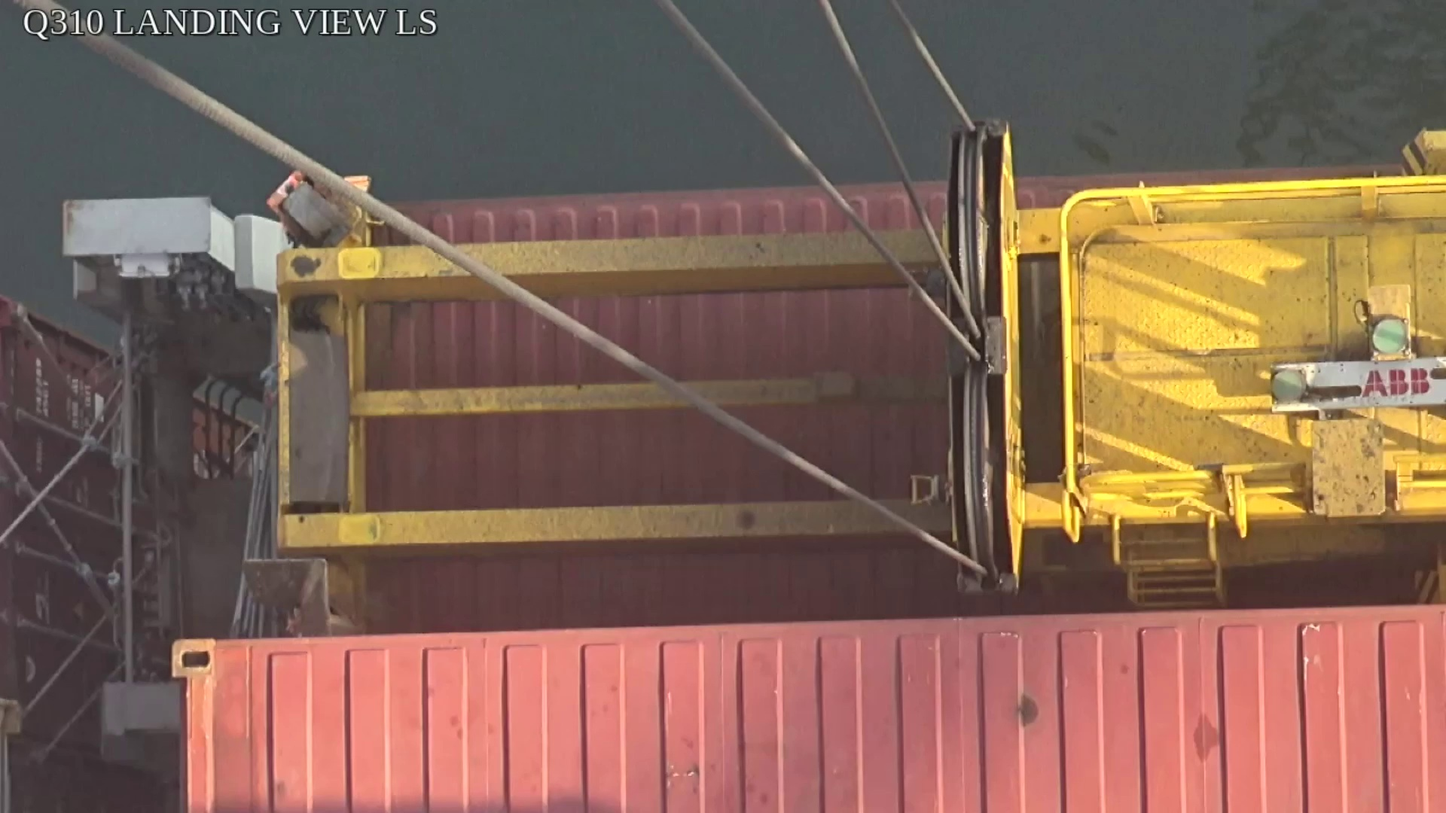left_gear: (945, 117, 1024, 596)
